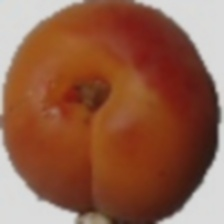apricot: (31, 22, 201, 164)
